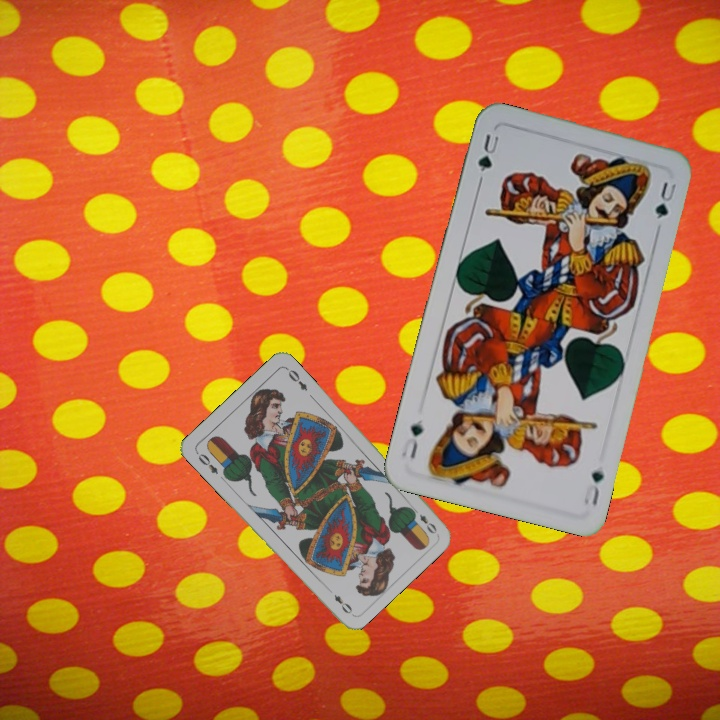EO: (408, 503, 440, 536), (192, 448, 221, 477)
GU: (474, 128, 501, 174), (579, 466, 607, 508)
